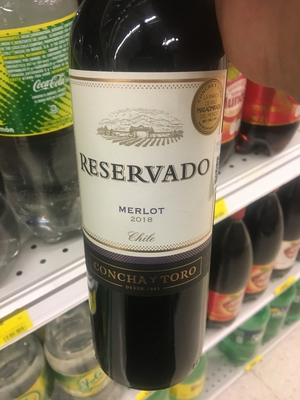reservado merlot: (70, 16, 238, 378)
